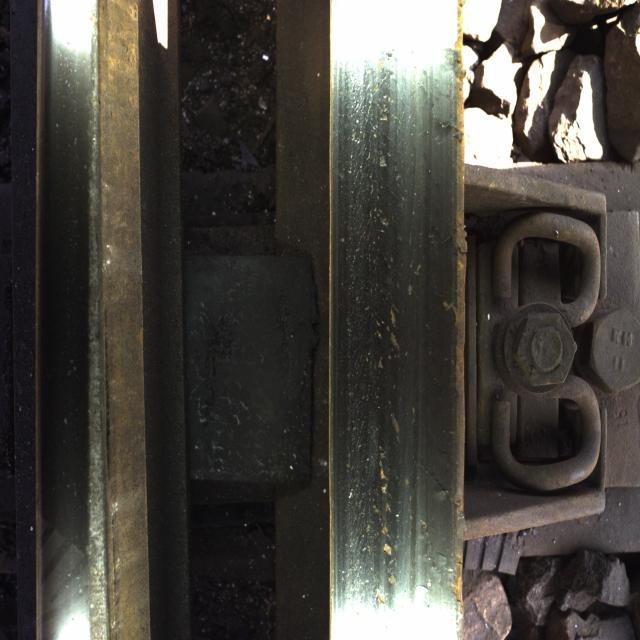scar: (342, 44, 442, 606)
